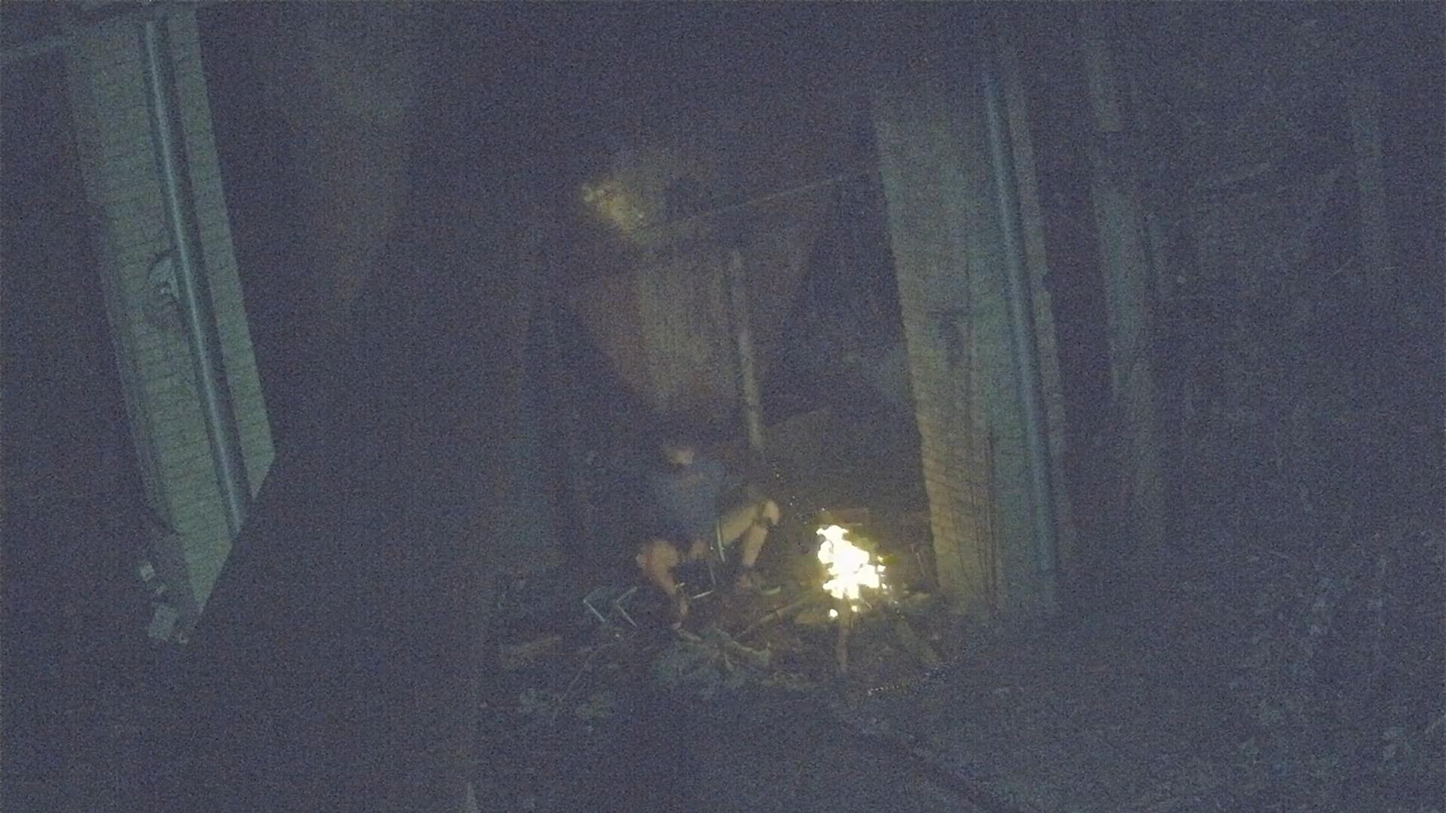fire: (817, 525, 884, 603)
